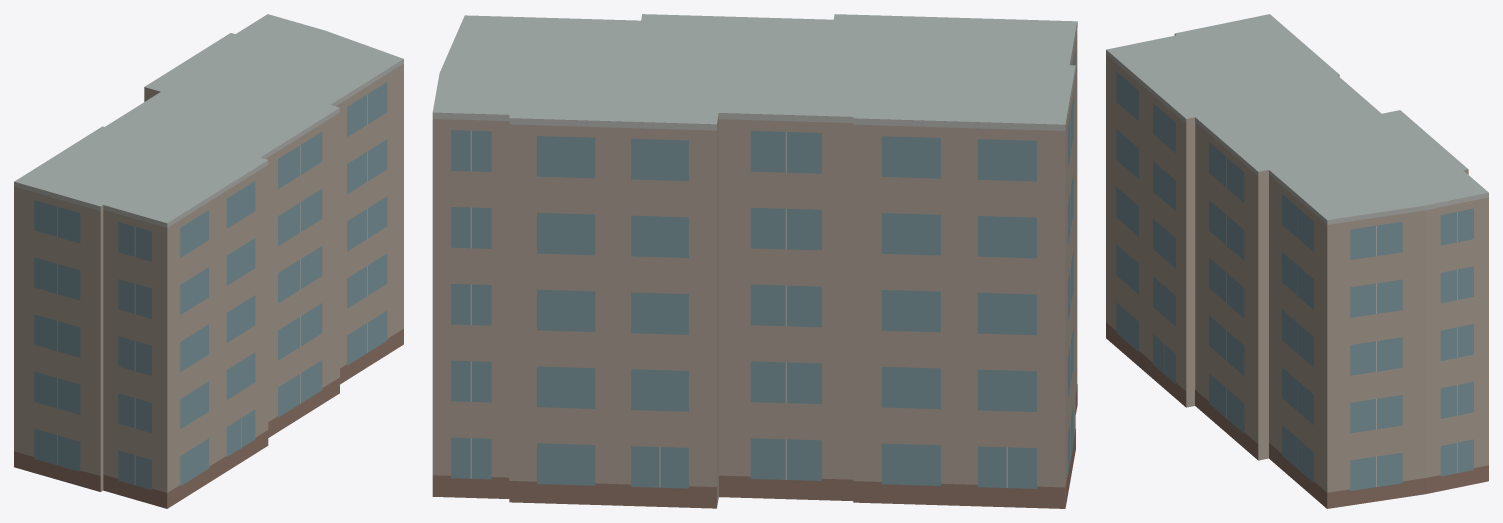
File: survey-upis-32530424.glb
The picture shows the model from 3 angles, left to right: view 1: azimuth 30°, elevation 25°; view 2: azimuth 150°, elevation 25°; view 3: azimuth 270°, elevation 25°; orthographic projection. The views are drawn at different scales.
Parts seen in each view (by area): view 1: survey-upis-32530424.tmp; view 2: survey-upis-32530424.tmp; view 3: survey-upis-32530424.tmp.
Boxes of the visible parts, left/top/right/bottom form: survey-upis-32530424.tmp: left=14, top=14, right=403, bottom=508; survey-upis-32530424.tmp: left=432, top=14, right=1077, bottom=508; survey-upis-32530424.tmp: left=1106, top=14, right=1488, bottom=508.
Bounding box in the file's own units: 22.69 × 14.8 × 17.79.
